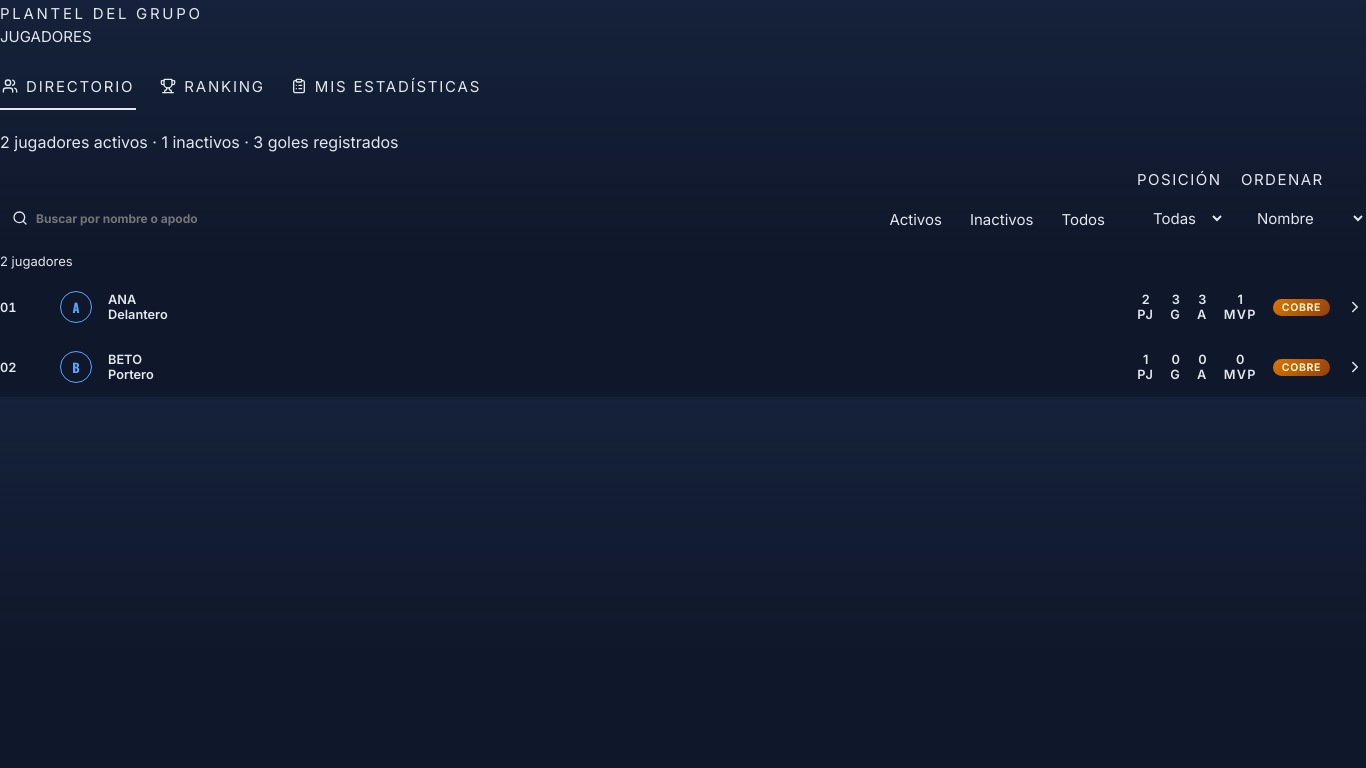
PlayersPage › directory searches and filters active/inactive
Check: the text "2 jugadores" is shown, box [0,253,73,269]
Click the button "Todos": {"x": 1083, "y": 219} [1049,201,1117,237]
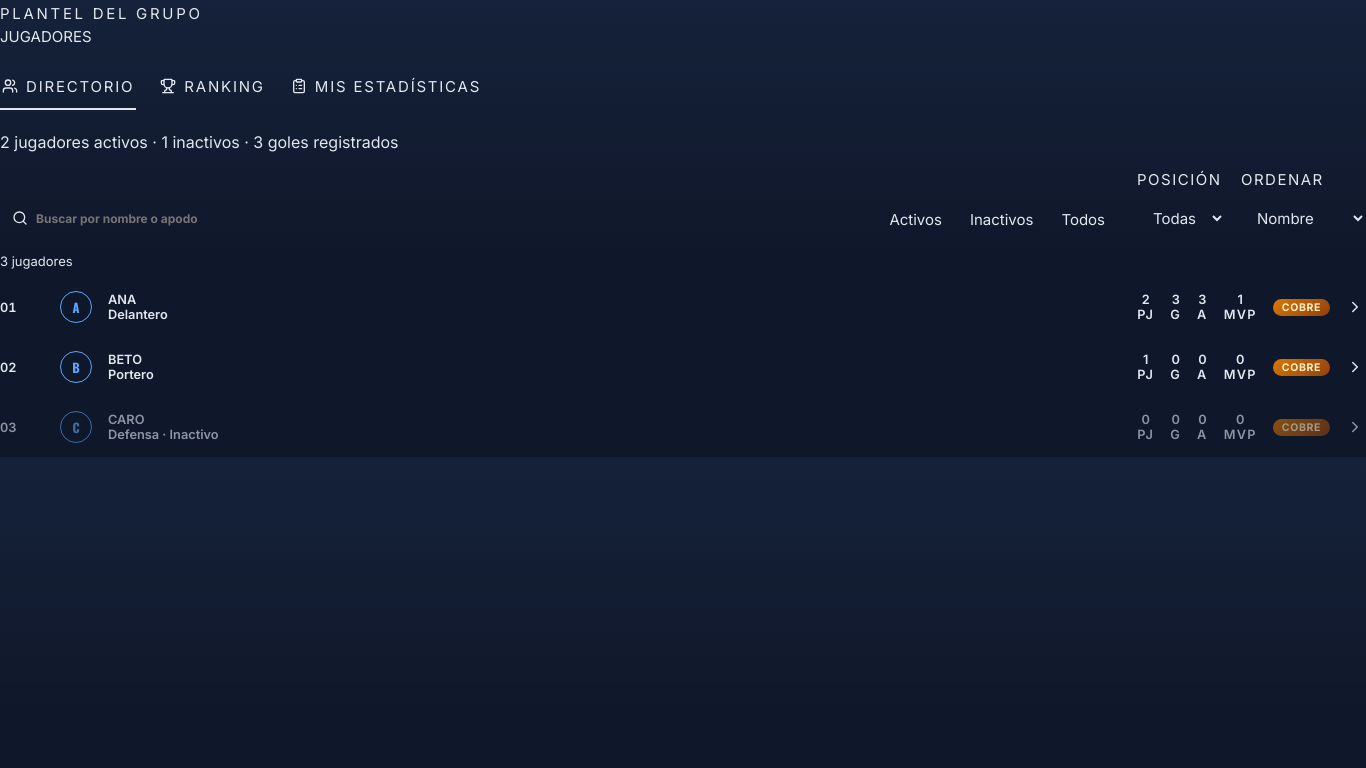
Check: the text "3 jugadores" is shown, box [0,253,73,269]
In the search field named "Buscar jugador": {"x": 441, "y": 218} [36,196,845,240], type "beto"
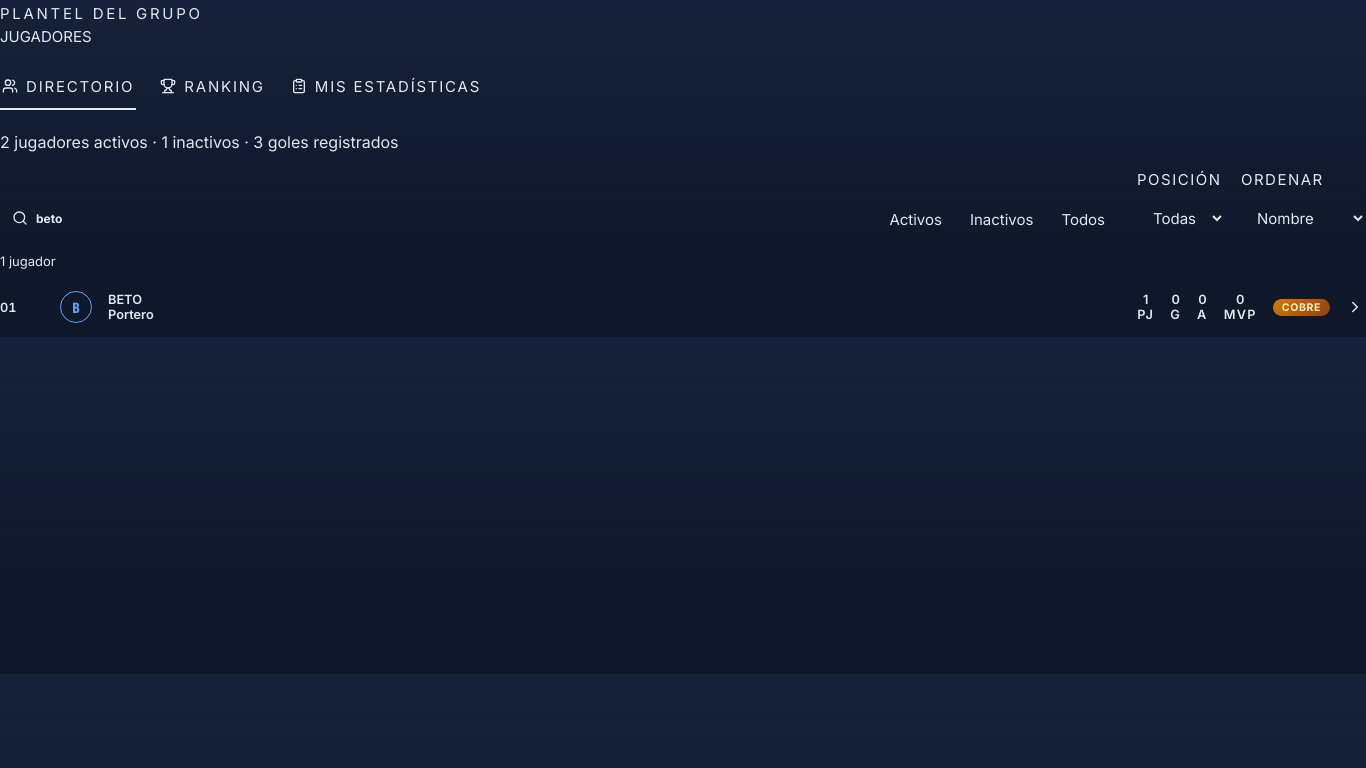
Check: the text "1 jugador" is shown, box [0,253,56,269]
